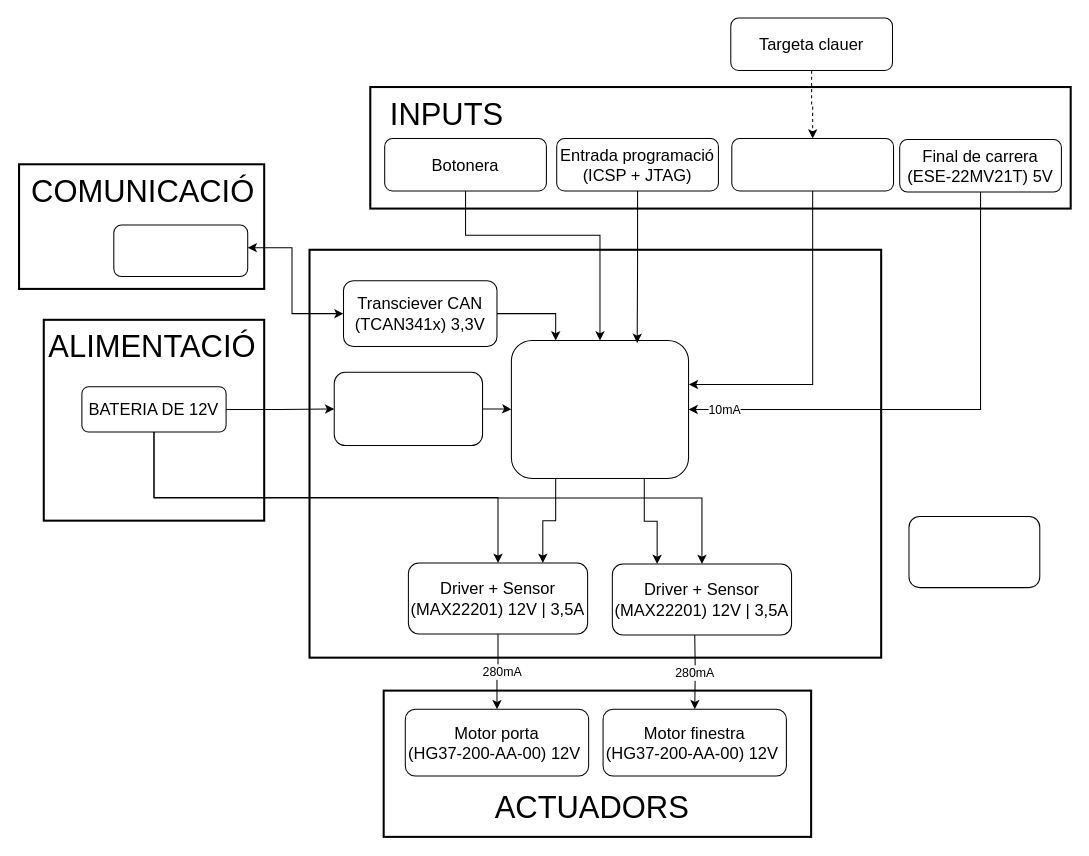
The diagram is 1089 pixels wide and 856 high, and some of its shapes have lost their labels. Each missing label, with the centre of its shape:
DC/DC ( P7803-2000R-S ) 5 V | 2A: pixel 408 408
ENTRADA CAN: pixel 180 250
LDO (LT1528) 3.3V | 3A: pixel 974 552
Lector/Driver RFID (DLP + RFID2): pixel 812 164
Microcontrolador (PIC32) 3,3V | 200mA | 8MHz: pixel 599 408
